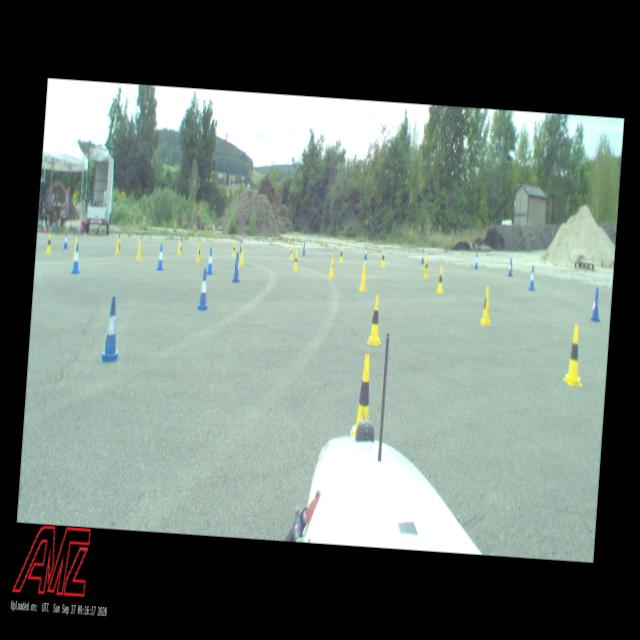blue_cone: (100, 295, 124, 362), (197, 268, 211, 310), (590, 288, 602, 320), (70, 242, 80, 274), (232, 252, 241, 281), (156, 243, 164, 270), (206, 247, 214, 274), (528, 266, 536, 290), (507, 257, 513, 276), (62, 232, 68, 248), (420, 248, 425, 263), (363, 245, 368, 259), (474, 251, 478, 268), (117, 233, 121, 250), (302, 242, 306, 254), (239, 239, 242, 252), (180, 236, 182, 250)
yellow_cone: (350, 354, 372, 436), (562, 324, 586, 386), (366, 294, 384, 346), (480, 285, 492, 325), (358, 263, 368, 291), (436, 265, 444, 293), (328, 252, 336, 277), (292, 249, 299, 270), (72, 236, 78, 259), (46, 232, 52, 253), (136, 239, 142, 260), (422, 257, 428, 277), (196, 242, 202, 262), (239, 246, 245, 266), (114, 236, 120, 254), (338, 246, 344, 262), (380, 249, 385, 267), (422, 252, 427, 270), (232, 241, 237, 257), (289, 243, 294, 259), (177, 238, 182, 254)
